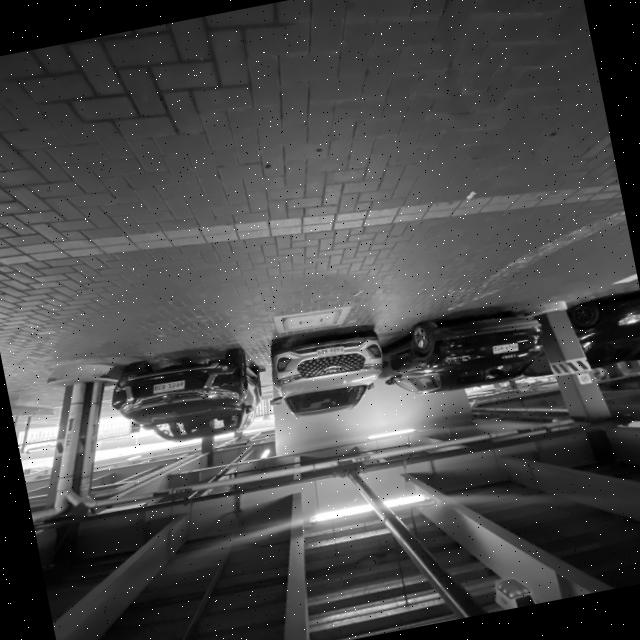Placa: (153, 379, 185, 393), (317, 345, 344, 356), (493, 342, 519, 352)
